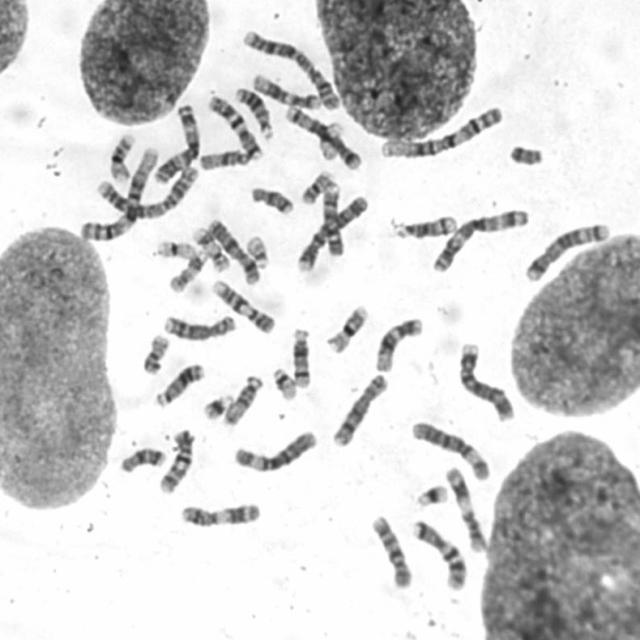A1: (77, 145, 160, 241), (380, 105, 502, 162)
A2: (240, 28, 342, 111), (95, 163, 201, 220)
A3: (429, 209, 529, 274), (151, 102, 201, 186)
B4: (296, 194, 369, 273), (456, 341, 516, 423)
B5: (522, 220, 611, 283), (283, 105, 363, 170)
C10: (370, 515, 412, 589), (158, 428, 194, 494)
C11: (442, 466, 487, 552), (179, 502, 263, 528)
C12: (374, 316, 424, 373), (251, 73, 321, 112)
C6: (410, 420, 492, 482), (234, 428, 318, 475)
C7: (413, 519, 468, 592), (206, 95, 262, 160)
C8: (330, 373, 390, 448), (162, 315, 237, 341)
C9: (211, 280, 276, 336), (320, 178, 346, 256)
D13: (155, 362, 205, 409), (233, 86, 275, 140)
D14: (389, 214, 460, 242), (291, 327, 313, 391)
D15: (223, 374, 264, 428), (198, 148, 252, 171)
E16: (326, 303, 370, 355), (107, 133, 138, 184)
E17: (167, 249, 208, 296), (191, 226, 231, 273)
E18: (250, 184, 296, 218), (119, 446, 167, 476)
F19: (316, 121, 347, 164), (155, 238, 197, 260)
F20: (141, 332, 173, 377), (300, 172, 334, 206)
G21: (201, 392, 235, 422), (415, 483, 449, 507)
G22: (244, 235, 270, 270), (272, 368, 298, 400)
X: (207, 218, 262, 288)
Y: (508, 144, 546, 168)
